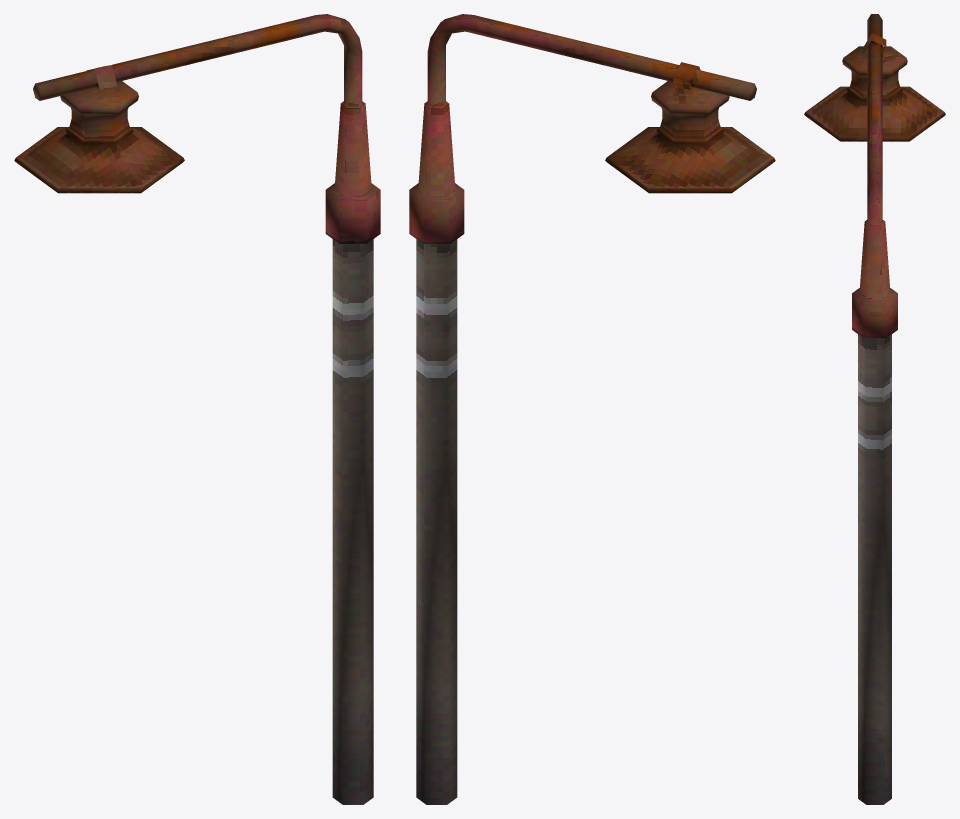
Rendered from lanetrn1.glb.
The picture shows the model from 3 angles, left to right: view 1: azimuth 30°, elevation 25°; view 2: azimuth 150°, elevation 25°; view 3: azimuth 270°, elevation 25°; orthographic projection. The views are drawn at different scales.
Visible parts, largest first — view 1: Circle; view 2: Circle; view 3: Circle.
Boxes of the visible parts, left/top/right/bottom form: Circle: left=14, top=14, right=380, bottom=804; Circle: left=409, top=14, right=775, bottom=804; Circle: left=804, top=14, right=945, bottom=804.
Size of the model in its own units: 9.47 by 21.23 by 4.14.
2 materials, 1 textured.
